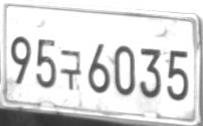0: (113, 45, 136, 96)
3: (139, 47, 161, 98)
5: (166, 50, 189, 101), (35, 39, 57, 88)
6: (88, 44, 110, 94)
9: (10, 36, 31, 84)
구: (60, 48, 82, 90)
